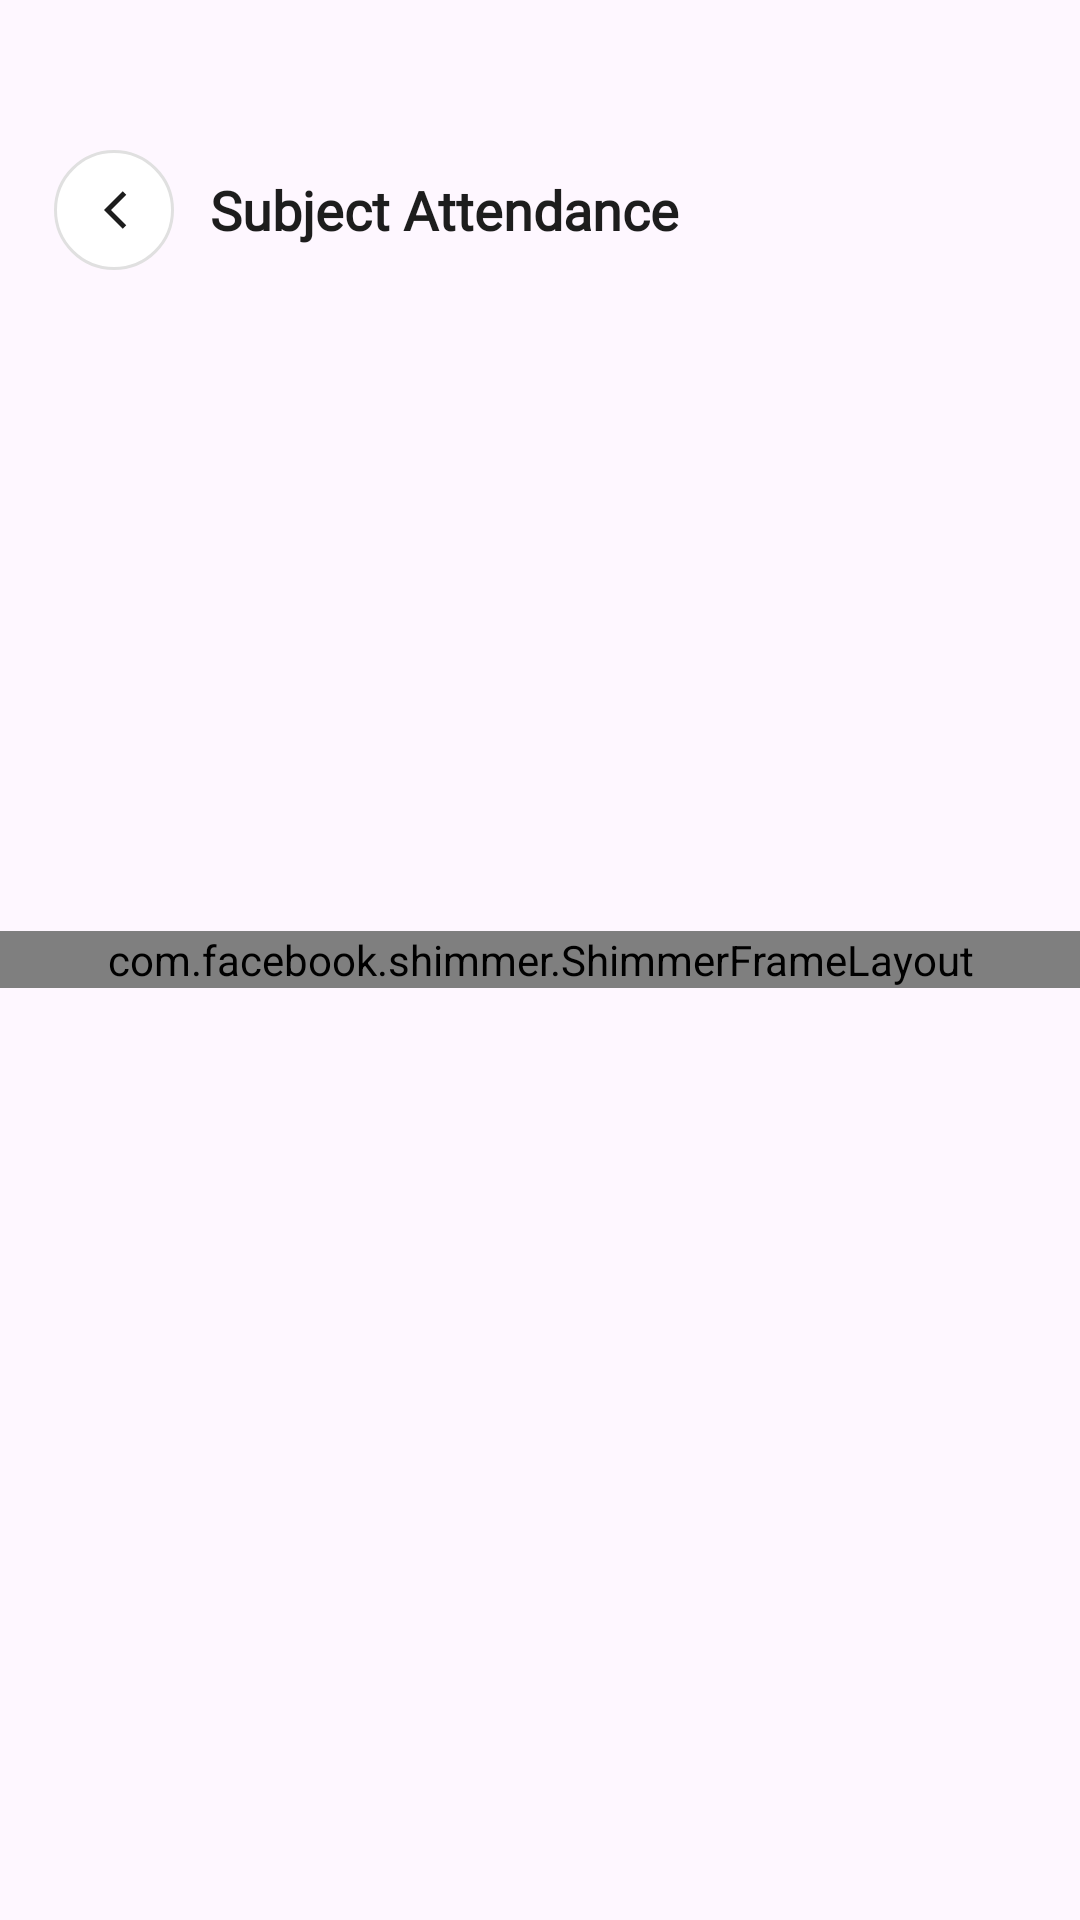

Icon bounding boxes for this 1080px×1920px phone screenshot, format bbox=[x1, y1, x2, y2]:
Back: bbox=[54, 150, 174, 270]
